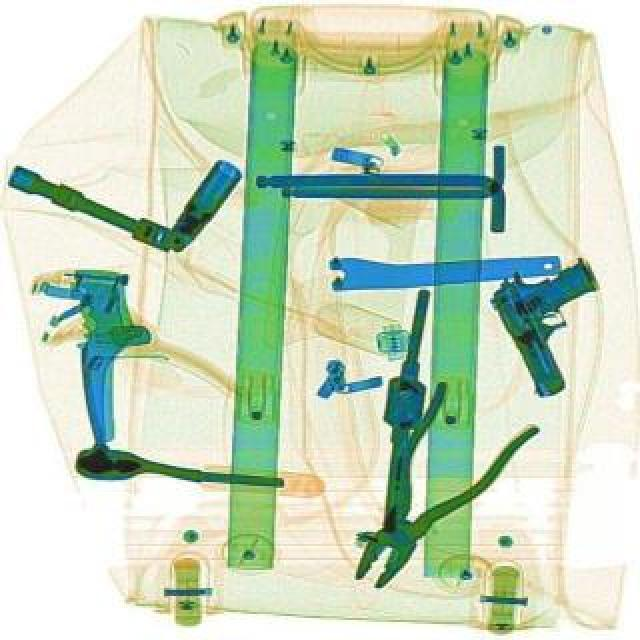gun: (478, 244, 634, 400)
wrench: (316, 370, 540, 614)
